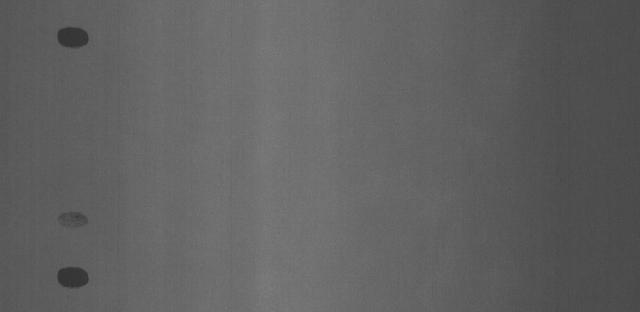oil_spot: (53, 22, 91, 51), (52, 264, 90, 290), (57, 209, 90, 230)
